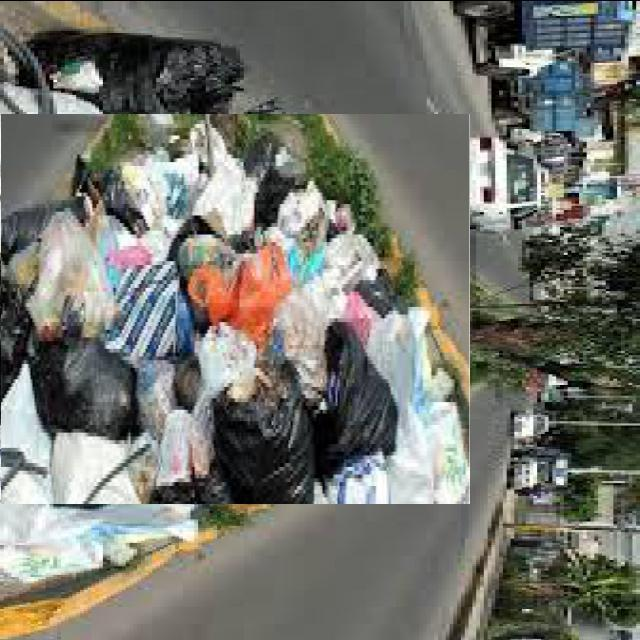Trashbag: (30, 30, 242, 116), (208, 377, 324, 502), (314, 333, 402, 459), (52, 335, 133, 427), (0, 196, 86, 253), (0, 291, 39, 387), (356, 273, 401, 322)
